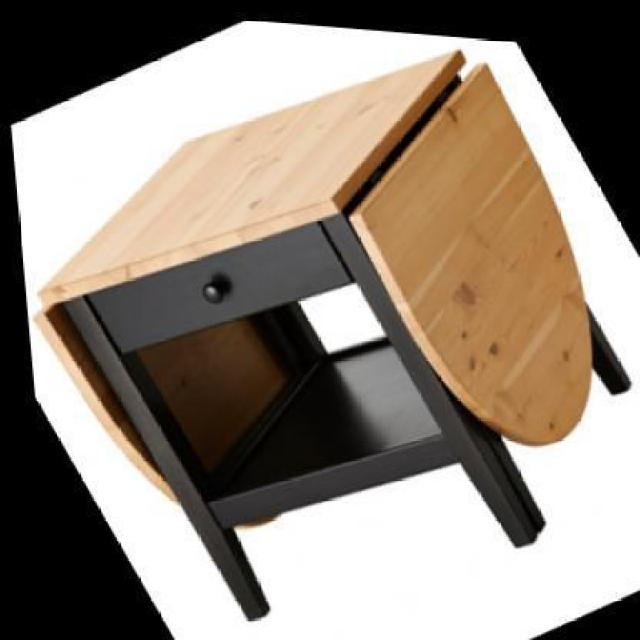tables: (9, 19, 638, 623)
